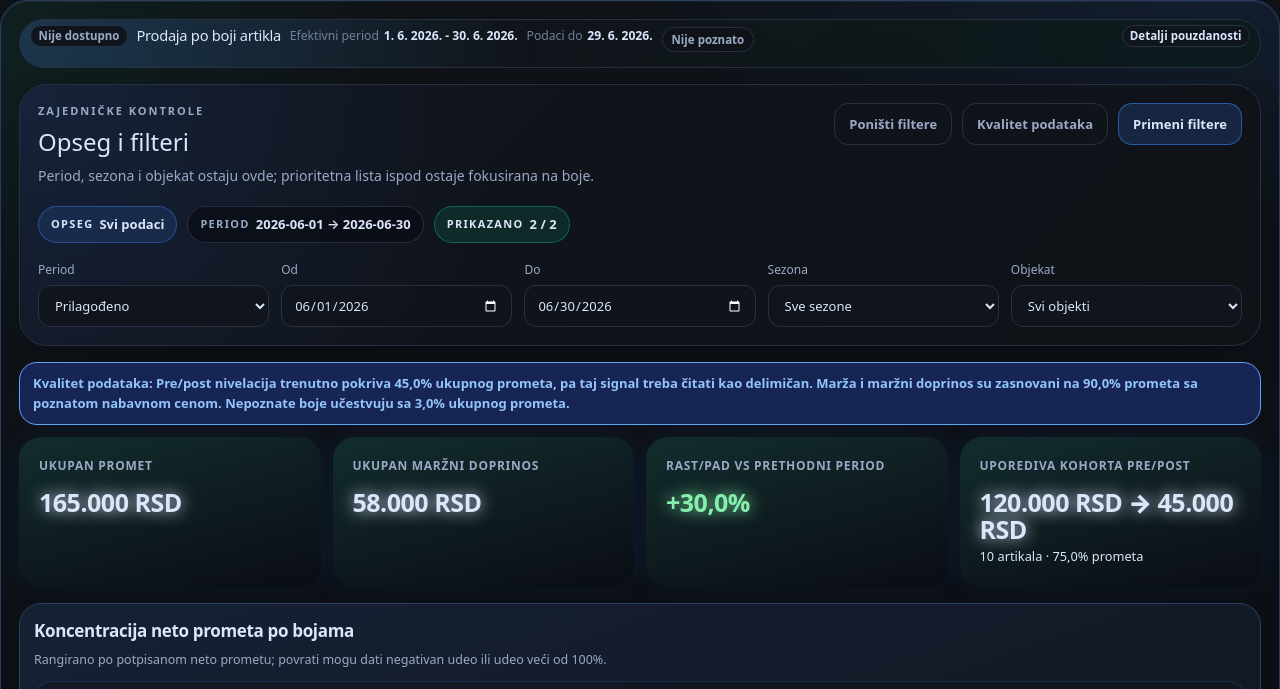
Test case: ColorSalesStatsPage › marks draft filters as unapplied without relabeling the active trust period
The width and height of the screenshot is (1280, 689).
In the date field labelled "Od": coordinates (397, 306) [281,285,512,327], type "2026-06-02"
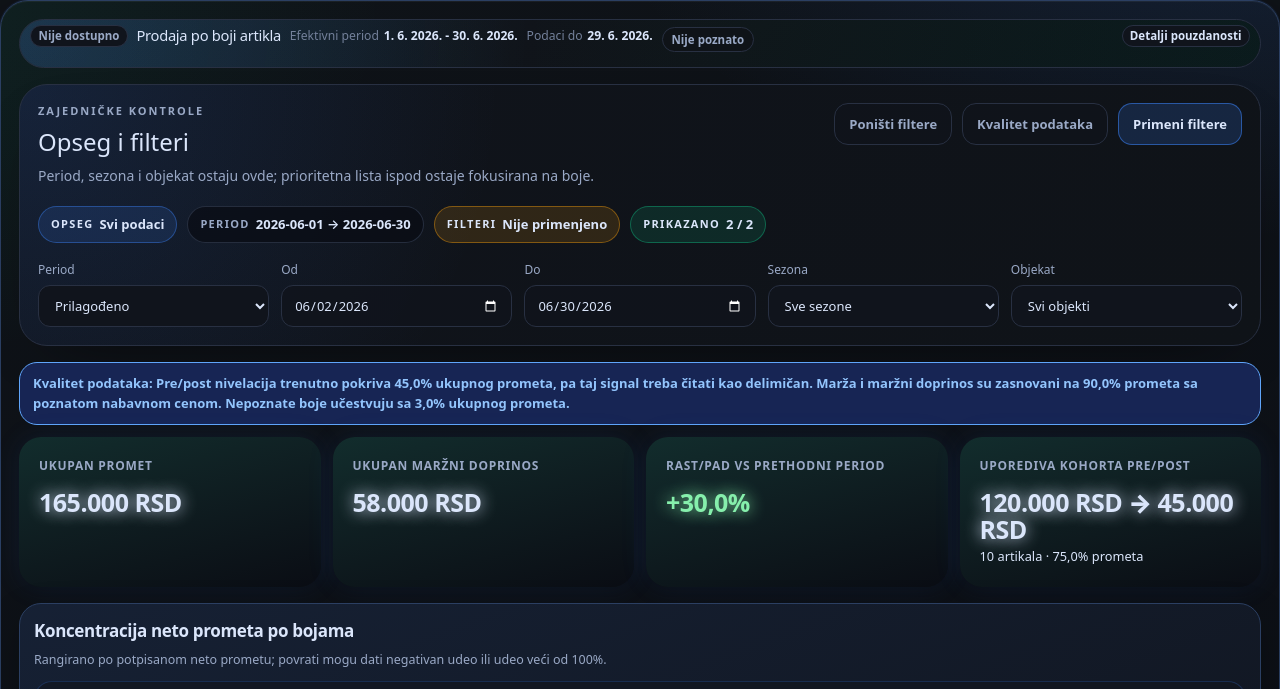
Expected: the text "2026-06-01 → 2026-06-30" is shown, [256,215,411,234]
Result: the text "Nije primenjeno" is shown at [502,215,607,234]
Click the button "Primeni filtere": coordinates (1180, 124) [1118,103,1242,145]
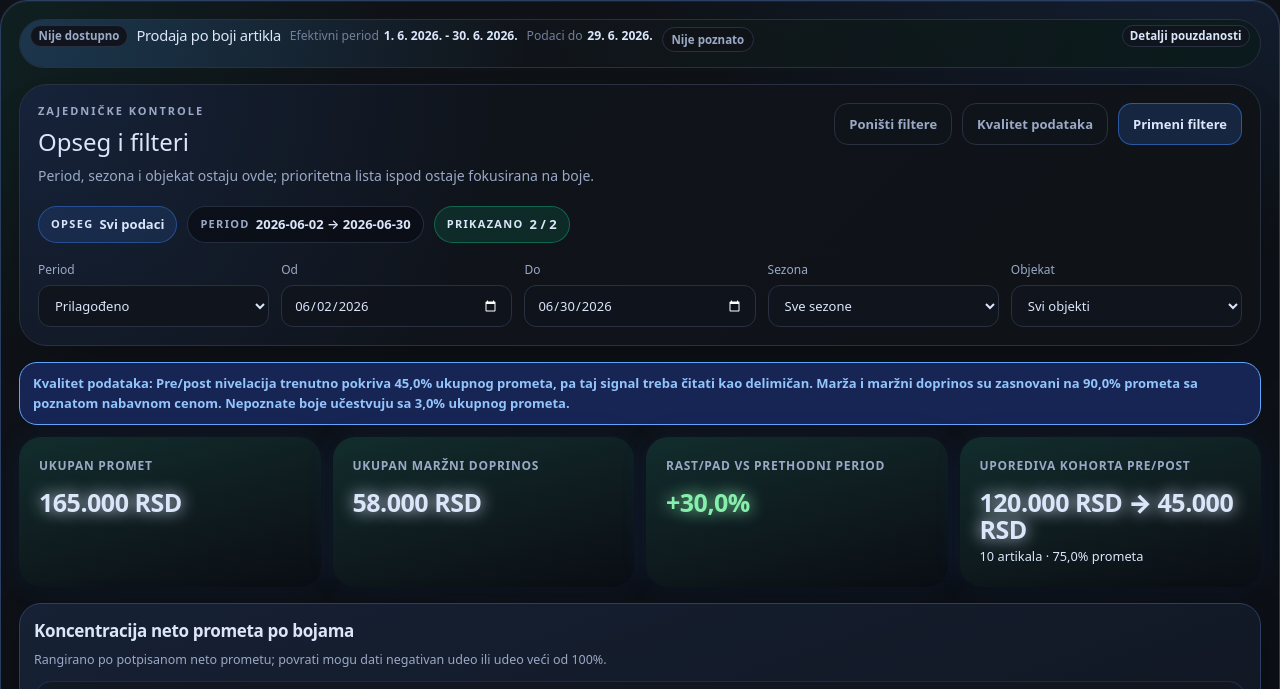
Result: the text "Nije primenjeno" is gone
